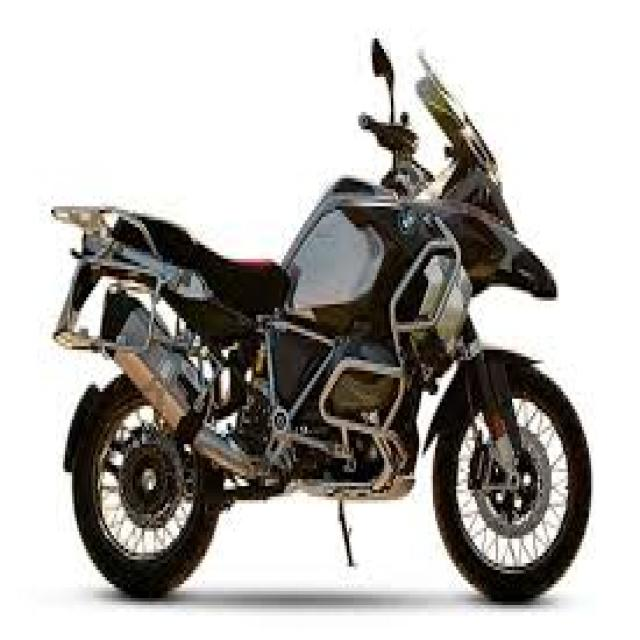Bike: (57, 60, 594, 606)
